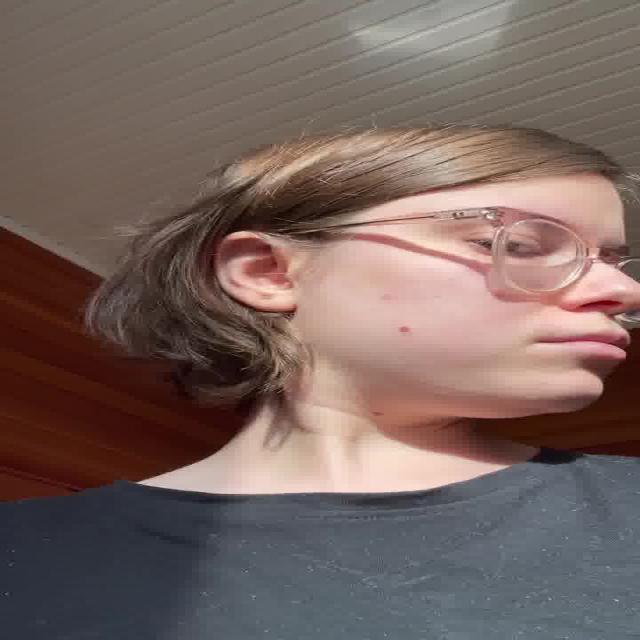earlobe: (215, 230, 302, 313)
